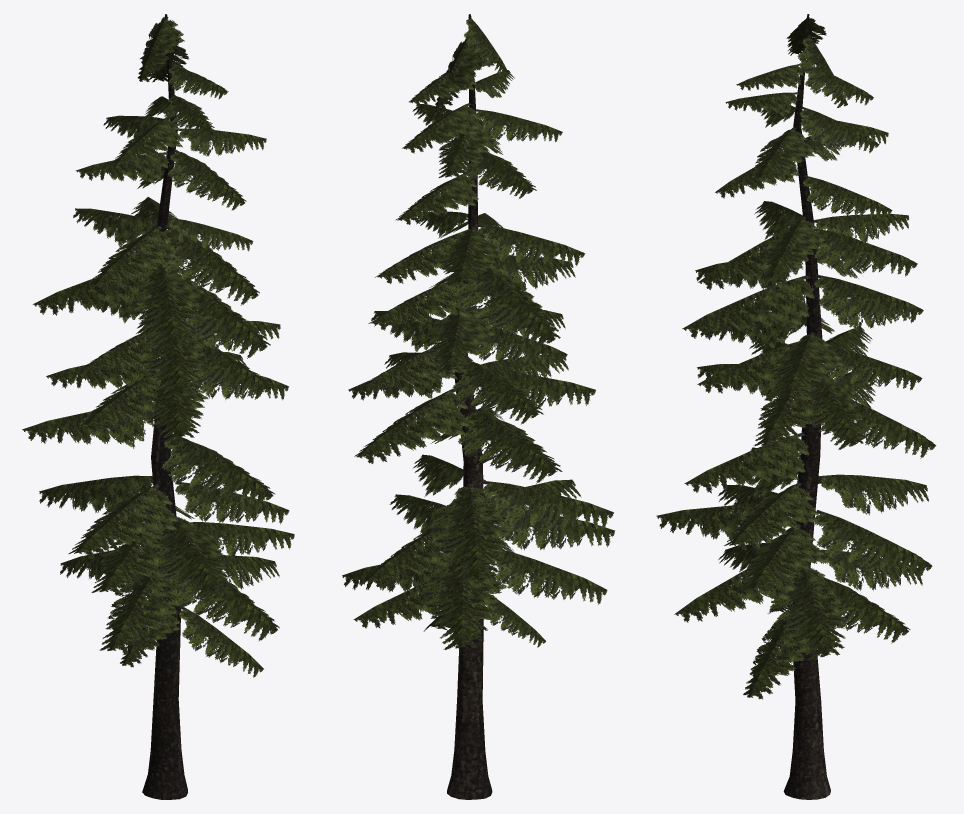
File: tree_2.obj
The picture shows the model from 3 angles, left to right: view 1: azimuth 30°, elevation 25°; view 2: azimuth 150°, elevation 25°; view 3: azimuth 270°, elevation 25°; orthographic projection.
Parts seen in each view (by area): view 1: tree_2; view 2: tree_2; view 3: tree_2.
Part boxes in pixels (bbox=[...]): tree_2: bbox=[22, 14, 294, 799]; tree_2: bbox=[342, 14, 615, 799]; tree_2: bbox=[656, 14, 936, 799].
Size of the model in its own units: 1.42 by 4.13 by 1.46.
